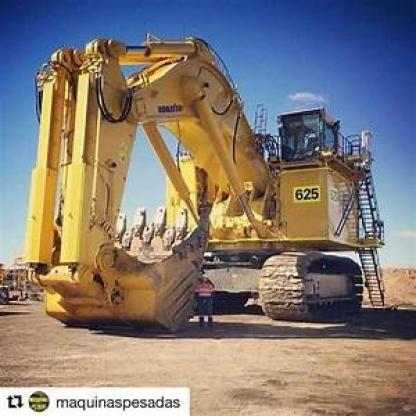excavator: (27, 32, 392, 344)
